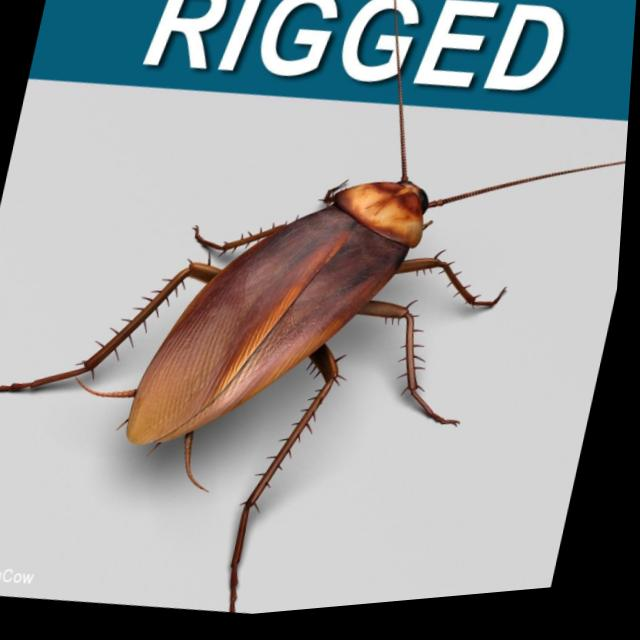Cockroach: (0, 44, 635, 640)
